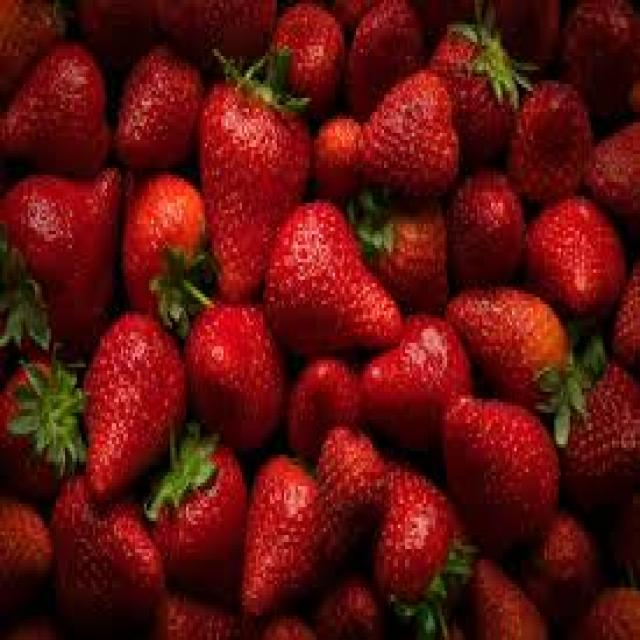strawberry: (4, 156, 120, 352), (263, 197, 407, 346), (187, 64, 286, 274), (78, 304, 180, 498), (443, 285, 583, 426), (37, 464, 172, 607), (436, 392, 560, 543), (229, 447, 329, 620), (372, 469, 472, 630), (354, 64, 466, 197), (2, 36, 123, 158), (350, 314, 468, 431), (534, 187, 618, 310), (118, 51, 196, 165)
